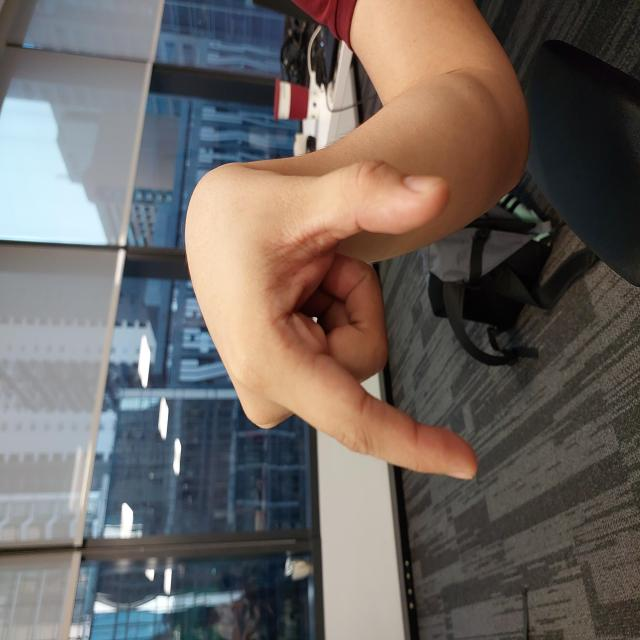Q: (157, 183, 485, 483)
